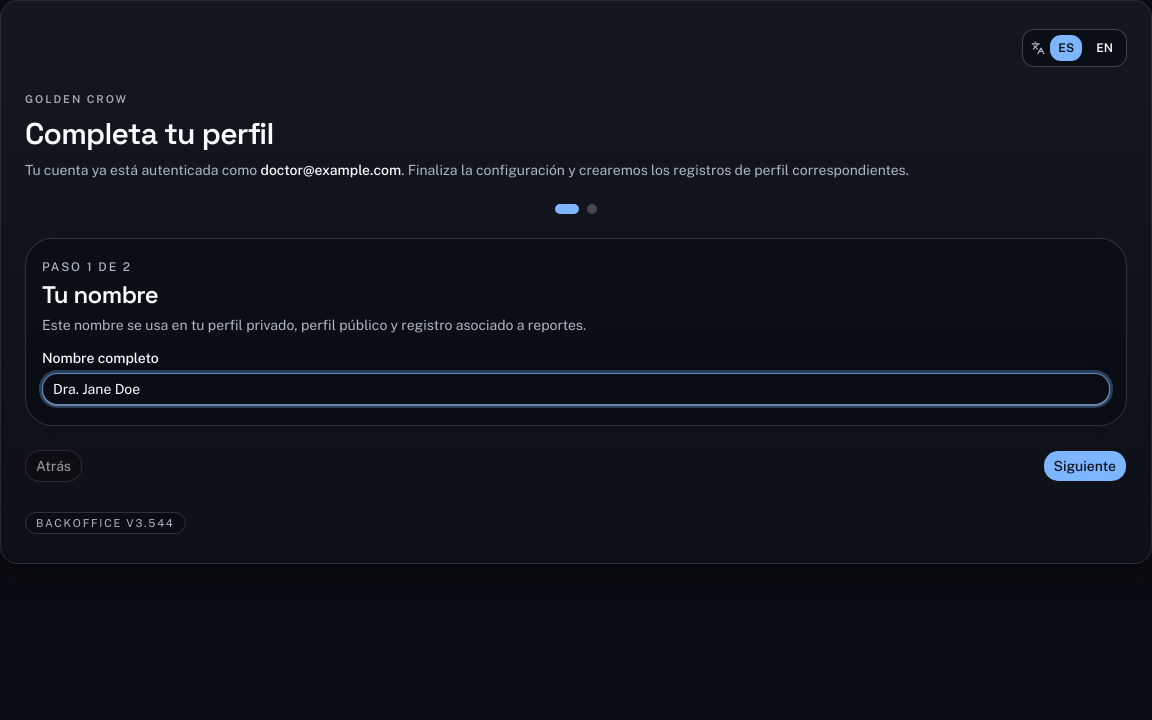
Test: CompleteProfileFlow › defaults to Spanish and switches visible copy to English
This screenshot has width=1152, height=720.
Expected: the heading "Completa tu perfil" is shown, [25,114,274,153]
Expected: the text "Paso 1 de 2" is shown, [42,260,132,274]
Click the button "EN" at (1105, 48), box [1087,34,1122,62]
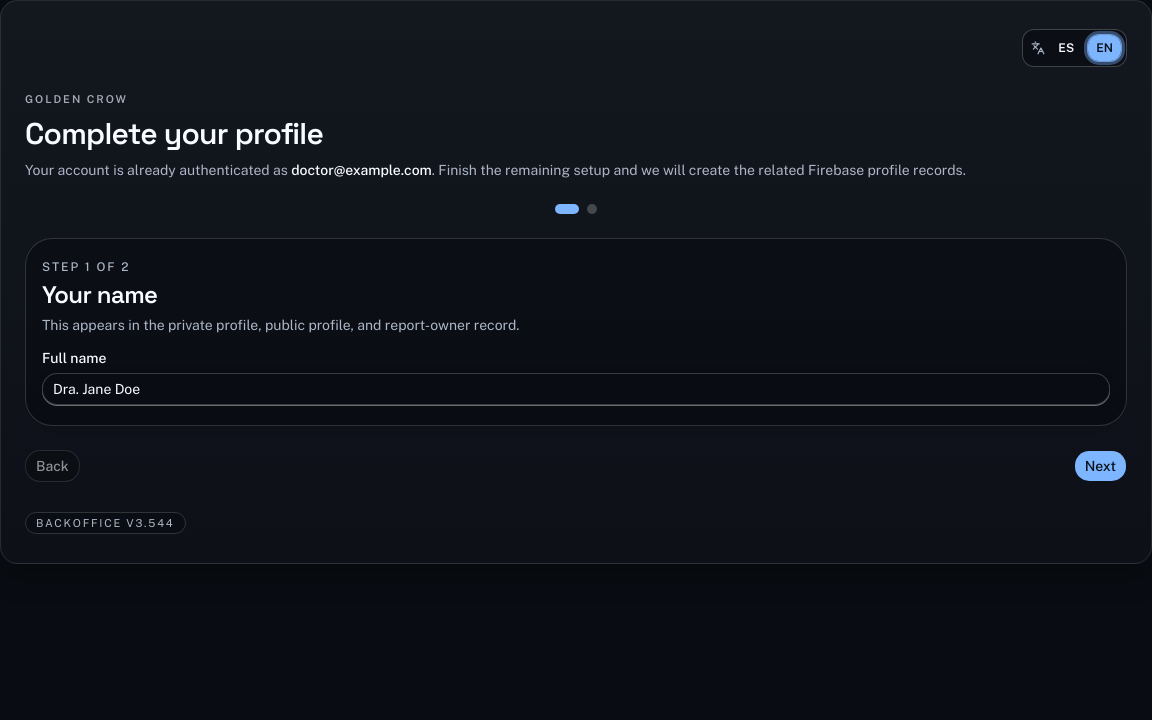
Expected: the field labelled "Full name" is shown, [42,373,1110,405]
Now the heading "Complete your profile" is shown, box [25,114,323,153]
Now the text "Step 1 of 2" is shown, box [42,260,130,274]
